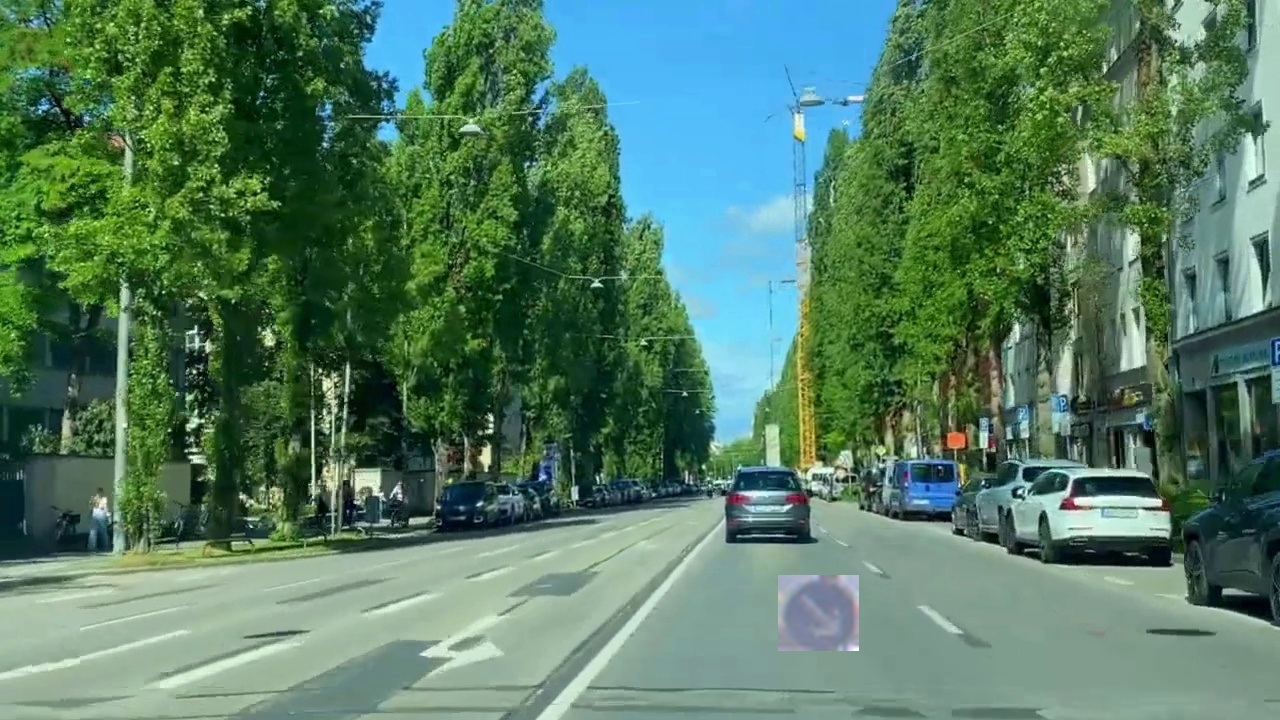Keep right: (778, 575, 859, 651)
